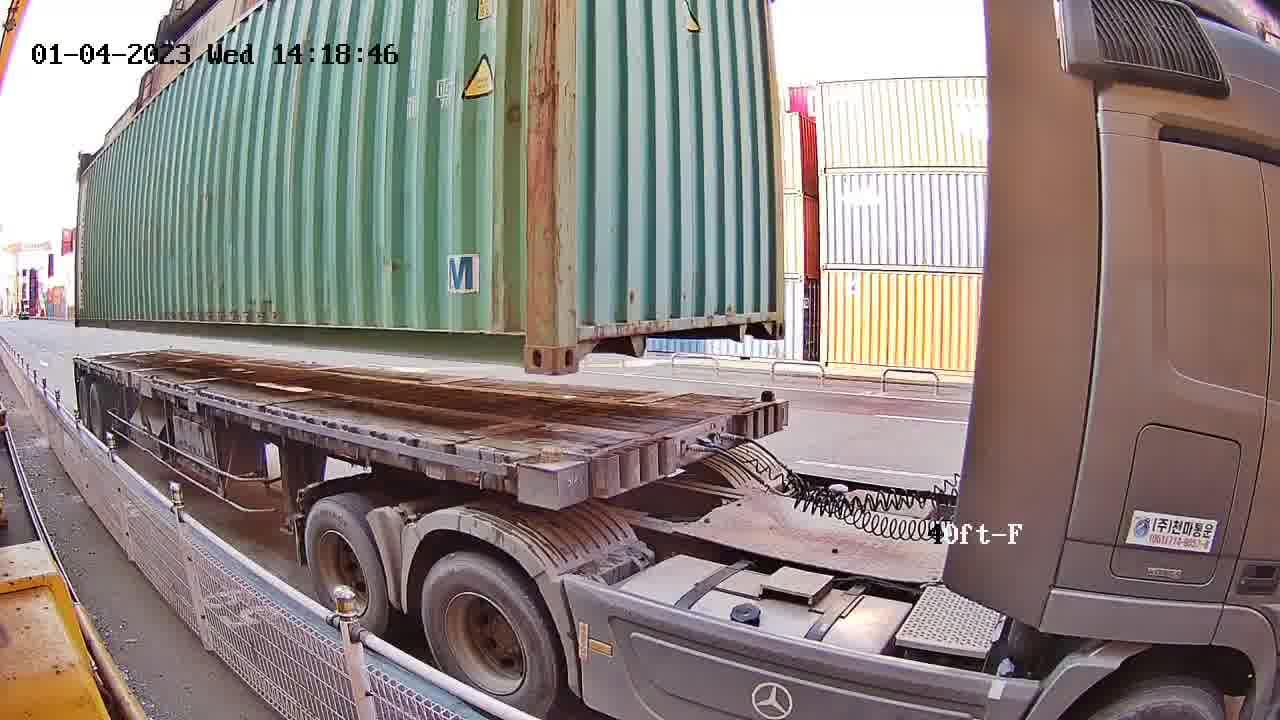Chassis: (522, 398, 788, 510)
Cone: (526, 445, 567, 509), (755, 387, 779, 405)
Hole_L: (553, 310, 610, 376)
Hole_R: (495, 311, 556, 377), (749, 297, 786, 341)
Tire: (421, 555, 557, 717), (305, 500, 386, 636)
